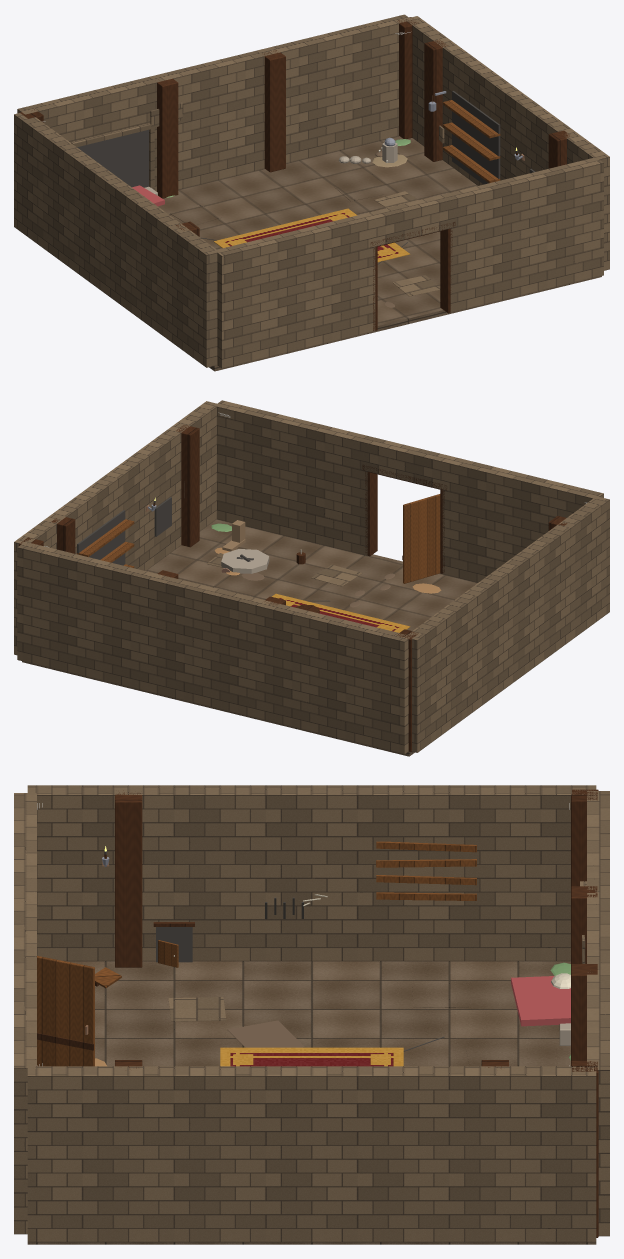
Rendered from Goblin Room.glb.
3 views of the same model, one above another, from view 1: azimuth 30°, elevation 25°; view 2: azimuth 150°, elevation 25°; view 3: azimuth 270°, elevation 25° (orthographic). The views are drawn at different scales.
Visible parts, largest first — view 1: GR_Wall_S, GR_Wall_N, GR_Wall_W, GR_Floor, GR_Wall_E, GR_ExtraDressing, GR_Rug; view 2: GR_Wall_N, GR_Wall_S, GR_Wall_W, GR_Wall_E, GR_Floor, GR_Door_Panel_J, GR_ExtraDressing, GR_Rug; view 3: GR_Wall_E, GR_Wall_W, GR_Floor, GR_Wall_N, GR_Wall_S, GR_ExtraDressing, GR_Door_Panel_J, GR_Rug.
Part boxes in pixels (x1,y1,x2,y2): GR_Wall_S: (214,158,603,368); GR_Wall_N: (17,14,418,198); GR_Wall_W: (14,113,218,367); GR_Floor: (158,136,601,371); GR_Wall_E: (404,16,609,270); GR_ExtraDressing: (132,91,500,307); GR_Rug: (213,208,410,262); GR_Wall_N: (17,537,418,754); GR_Wall_S: (215,400,603,582); GR_Wall_W: (404,496,609,752); GR_Wall_E: (14,401,219,655); GR_Floor: (22,519,477,756); GR_Door_Panel_J: (402,494,440,583); GR_ExtraDressing: (77,519,394,613); GR_Rug: (272,593,410,632); GR_Wall_E: (27,1060,596,1242); GR_Wall_W: (27,785,596,967); GR_Floor: (27,961,596,1244); GR_Wall_N: (559,789,609,1237); GR_Wall_S: (14,793,36,1234); GR_ExtraDressing: (95,841,570,1026); GR_Door_Panel_J: (37,956,94,1066); GR_Rug: (220,1047,403,1066).
Size of the model in its own units: 15 by 4.2 by 13.
Materials: 22 (6 with a texture image).
